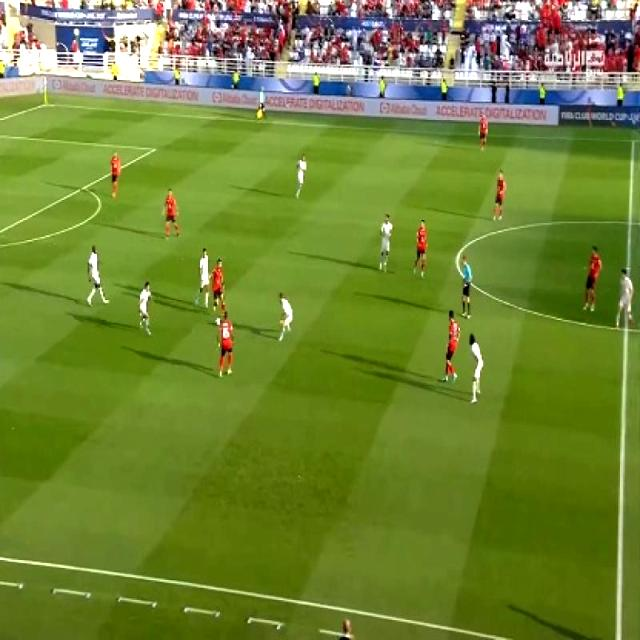bigarea_top_inner: (146, 140, 160, 157)
corner: (38, 96, 52, 109)
halfcircle_bottom: (616, 315, 634, 340)
halfcircle_top: (622, 212, 638, 232)
midline_top_intersection: (627, 130, 640, 149)
top_arc_area_intersection: (76, 178, 92, 196)
